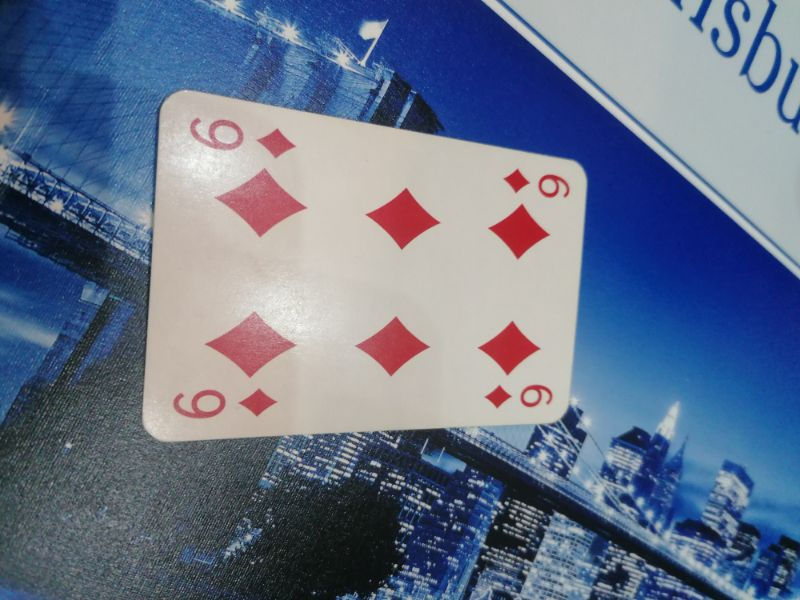6d: (188, 115, 300, 161), (170, 383, 282, 422), (500, 164, 573, 201), (484, 380, 554, 413)
